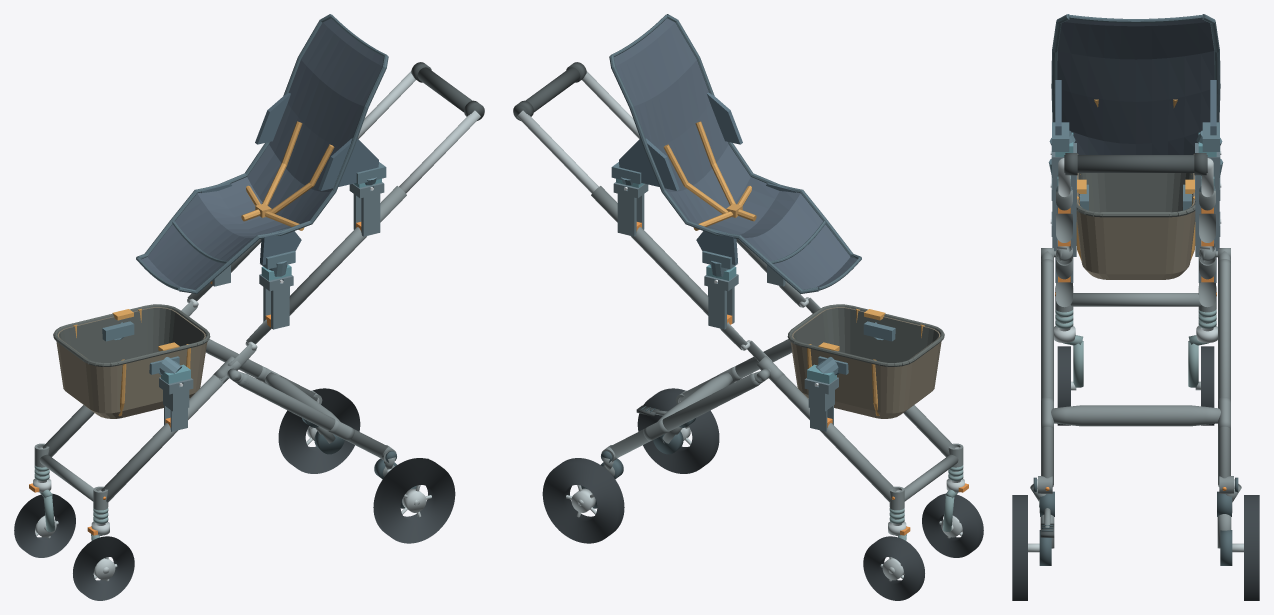
The model's file is D34_w380_state1_wheel_S.glb.
3 renders of one model, left to right at view 1: azimuth 30°, elevation 25°; view 2: azimuth 150°, elevation 25°; view 3: azimuth 270°, elevation 25°, orthographic. The views are drawn at different scales.
Visible parts, largest first — view 1: D34_Upper, D34_Lower, RL_tire.009, RR_tire.009, FL_tire.009, FR_tire.009, main_lower_-1, V46_rear_leg_-1.002, main_upper_-1, Universal_Cabin_Receiver_H_-1, Universal_Cabin_Receiver_M_-1, D34_Lower_Mount_L (+9 smaller); view 2: D34_Upper, D34_Lower, RR_tire.009, RL_tire.009, FR_tire.009, FL_tire.009, main_lower_1, V46_rear_leg_1.002, main_upper_1, Universal_Cabin_Receiver_H_1, Universal_Cabin_Receiver_M_1, D34_Lower_Mount_L (+9 smaller); view 3: D34_Upper, D34_Lower, V46_rearbar.002, V46_rear_leg_1.002, V46_rear_leg_-1.002, round_handle.010, front_fixed_round_tube, RL_tire.009, RR_tire.009, D34_Upper_Mount_H, FL_tire.009, FR_tire.009 (+17 smaller).
Part boxes in pixels (x1=…): D34_Upper: x1=136, y1=14, x2=388, y2=293; D34_Lower: x1=53, y1=304, x2=210, y2=418; RL_tire.009: x1=373, y1=458, x2=455, y2=543; RR_tire.009: x1=278, y1=388, x2=360, y2=473; FL_tire.009: x1=73, y1=536, x2=134, y2=600; FR_tire.009: x1=14, y1=493, x2=75, y2=557; main_lower_-1: x1=101, y1=374, x2=227, y2=502; V46_rear_leg_-1.002: x1=237, y1=373, x2=387, y2=458; main_upper_-1: x1=289, y1=186, x2=406, y2=315; Universal_Cabin_Receiver_H_-1: x1=349, y1=182, x2=384, y2=236; Universal_Cabin_Receiver_M_-1: x1=259, y1=274, x2=293, y2=329; D34_Lower_Mount_L: x1=102, y1=321, x2=190, y2=386; D34_Upper: x1=609, y1=14, x2=861, y2=293; D34_Lower: x1=787, y1=304, x2=944, y2=418; RR_tire.009: x1=542, y1=458, x2=624, y2=543; RL_tire.009: x1=637, y1=388, x2=719, y2=473; FR_tire.009: x1=863, y1=536, x2=924, y2=600; FL_tire.009: x1=922, y1=493, x2=983, y2=557; main_lower_1: x1=770, y1=374, x2=896, y2=502; V46_rear_leg_1.002: x1=610, y1=373, x2=760, y2=458; main_upper_1: x1=591, y1=186, x2=708, y2=315; Universal_Cabin_Receiver_H_1: x1=613, y1=182, x2=648, y2=236; Universal_Cabin_Receiver_M_1: x1=704, y1=274, x2=738, y2=329; D34_Lower_Mount_L: x1=807, y1=321, x2=895, y2=386; D34_Upper: x1=1051, y1=14, x2=1220, y2=154; D34_Lower: x1=1076, y1=154, x2=1195, y2=279; V46_rearbar.002: x1=1051, y1=405, x2=1220, y2=426; V46_rear_leg_1.002: x1=1218, y1=259, x2=1230, y2=486; V46_rear_leg_-1.002: x1=1041, y1=259, x2=1053, y2=486; round_handle.010: x1=1064, y1=155, x2=1207, y2=172; front_fixed_round_tube: x1=1070, y1=293, x2=1201, y2=306; RL_tire.009: x1=1012, y1=495, x2=1027, y2=600; RR_tire.009: x1=1244, y1=495, x2=1259, y2=600; D34_Upper_Mount_H: x1=1049, y1=122, x2=1222, y2=156; FL_tire.009: x1=1057, y1=346, x2=1070, y2=425; FR_tire.009: x1=1201, y1=346, x2=1214, y2=425.
Bounding box in the file's own units: 1.09 × 1.2 × 0.4671.
